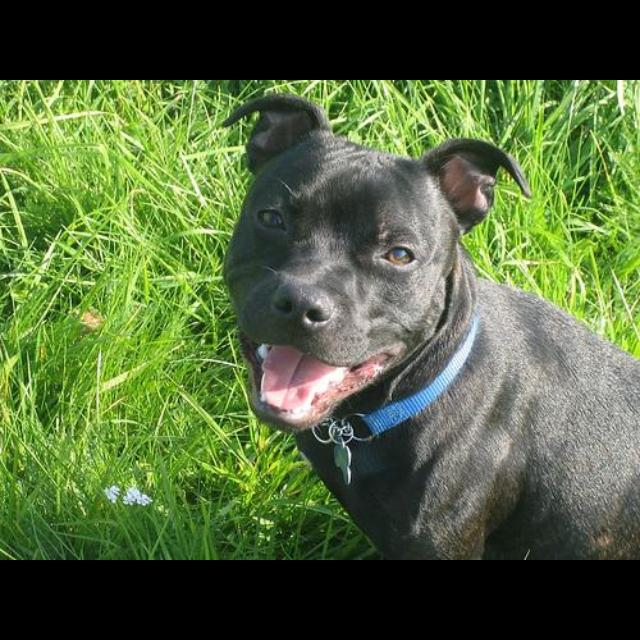staffford: (221, 91, 640, 559)
